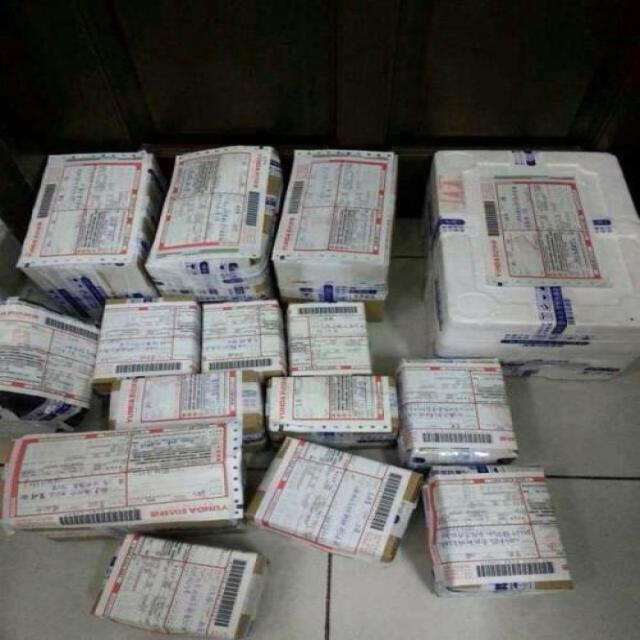box: (417, 152, 640, 380), (3, 415, 246, 544), (18, 151, 170, 325), (243, 438, 425, 566), (143, 145, 285, 303), (270, 149, 399, 320), (420, 462, 576, 598), (86, 533, 271, 639), (396, 356, 520, 474), (106, 370, 270, 454), (0, 297, 99, 435), (92, 296, 200, 396), (265, 374, 397, 452), (201, 297, 288, 379), (285, 299, 372, 374)
